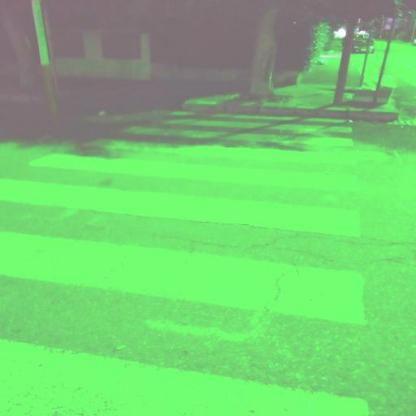crosswalk: (2, 144, 374, 251)
